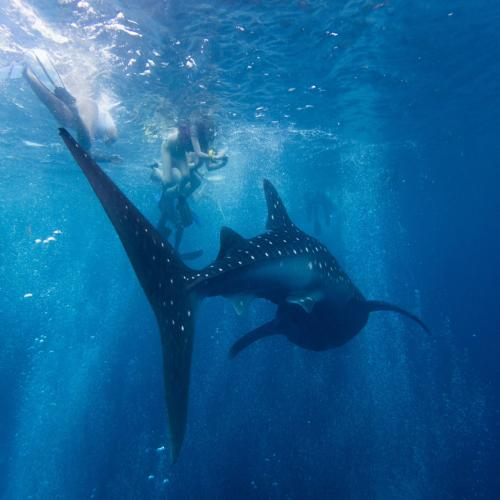shark-endangered: (57, 128, 433, 466)
